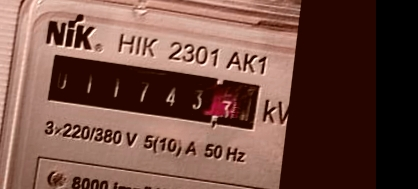0: (53, 63, 71, 92)
1: (80, 67, 97, 96), (108, 71, 124, 100)
3: (188, 84, 205, 113), (216, 98, 234, 120)
4: (162, 82, 179, 109)
7: (135, 77, 152, 103)
screen: (38, 48, 270, 138)
